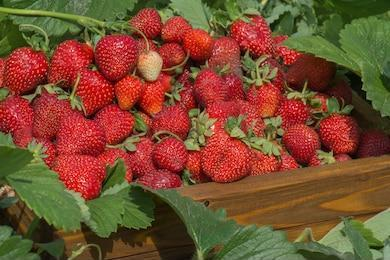Fresa: (25, 81, 86, 146), (196, 128, 257, 190), (47, 148, 113, 203), (223, 5, 277, 65), (51, 108, 112, 160), (2, 40, 51, 100), (92, 29, 139, 84), (315, 106, 363, 157), (147, 102, 197, 144), (1, 92, 36, 149), (242, 74, 284, 120), (279, 120, 321, 166), (149, 133, 190, 175), (189, 66, 229, 103), (123, 4, 162, 41), (112, 72, 143, 113)
